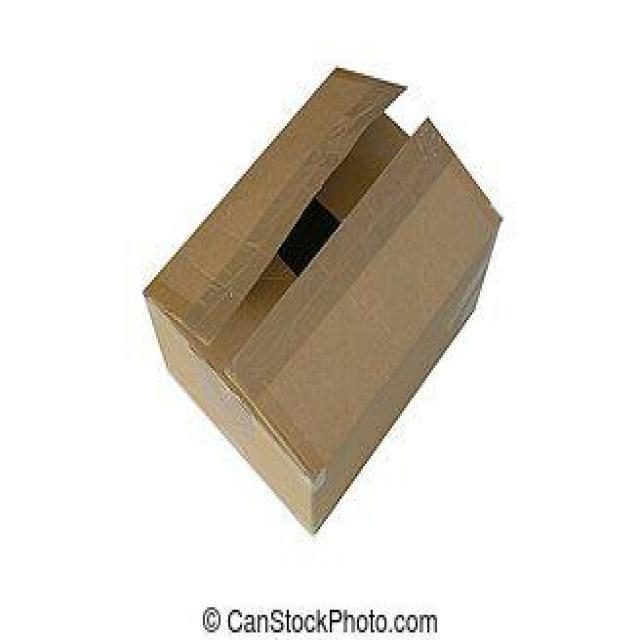box: (133, 58, 494, 540)
